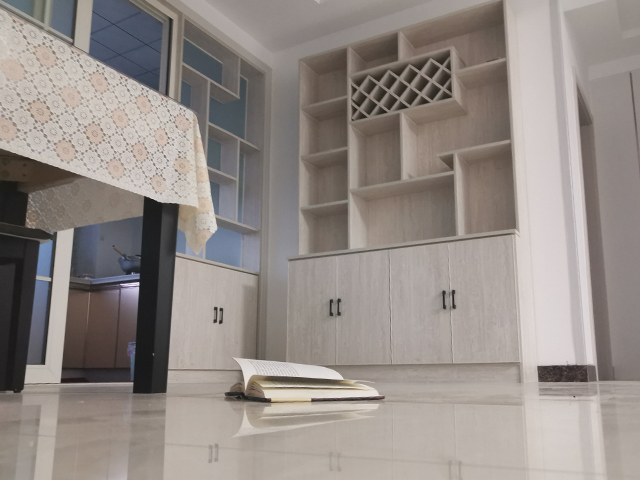book: (221, 355, 387, 404)
cabinet: (279, 224, 539, 387), (166, 248, 257, 383), (61, 271, 142, 384)
table: (1, 1, 199, 396)
